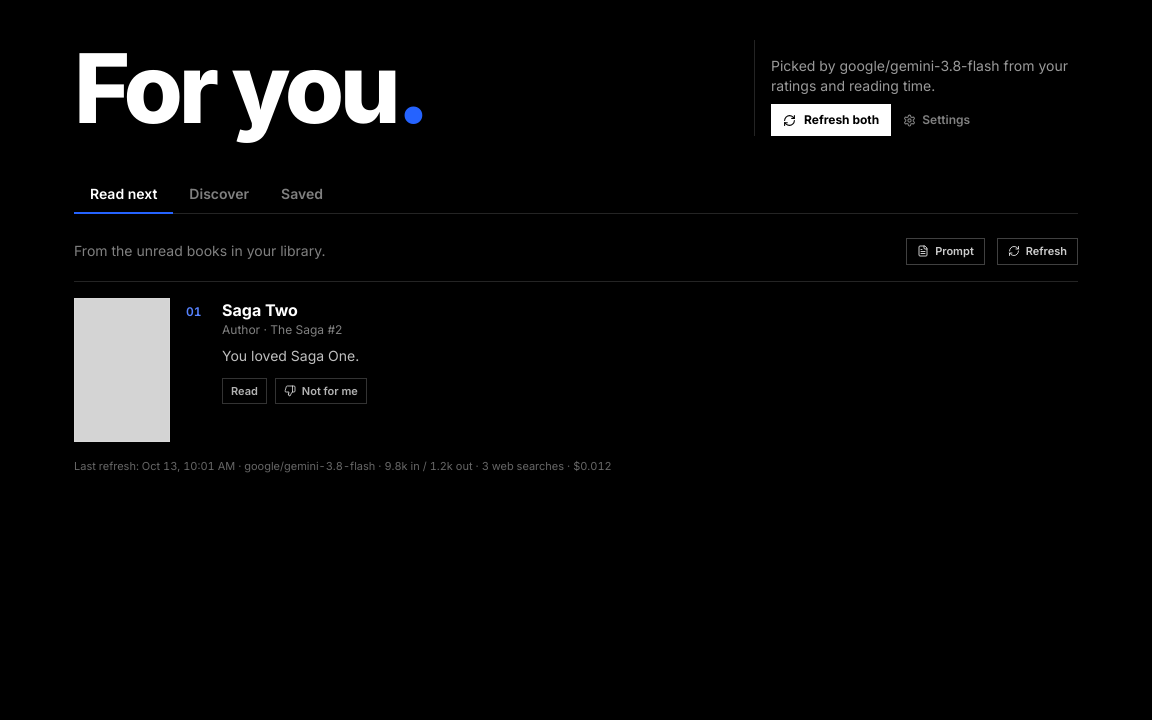
Recommendations page › lists discover picks with links and hides turned-down ones
The width and height of the screenshot is (1152, 720).
Click the tab "Discover" at (219, 195), box 173,176 -> 265,214
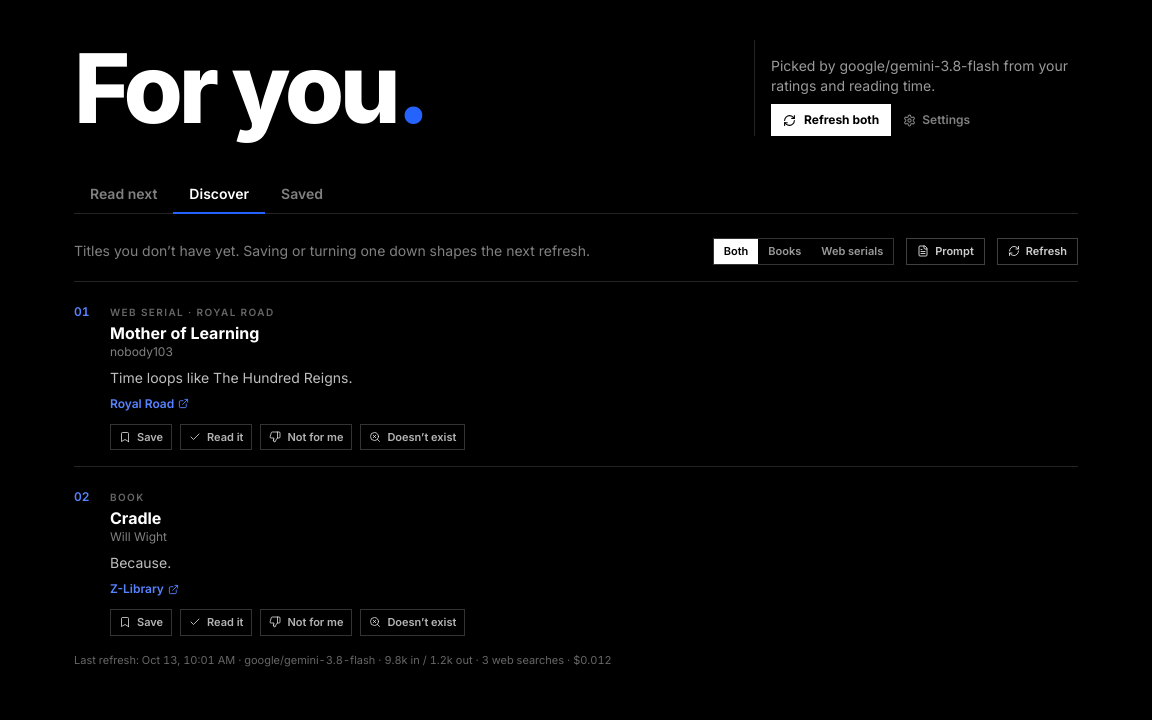
Expected: the number of list items with test id "discover-item" is 2, 74,280 -> 1078,466; 74,466 -> 1078,652
